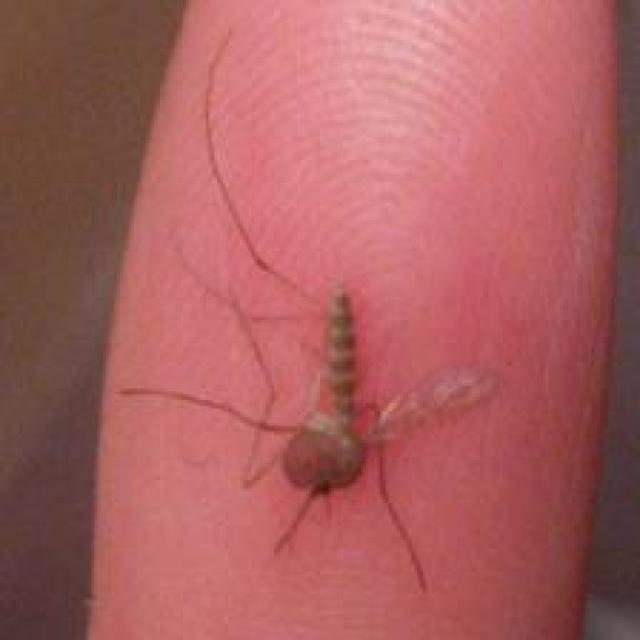Culex: (117, 283, 503, 594)
